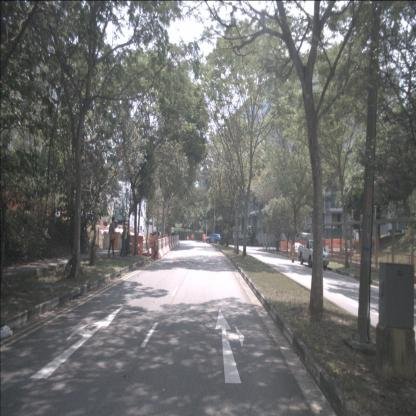human-pedestrian-adult: (107, 216, 116, 258), (119, 219, 128, 258)
movable_object-barrier: (102, 231, 126, 250), (127, 235, 143, 252), (154, 239, 161, 261), (332, 239, 344, 248), (158, 238, 163, 258), (164, 237, 169, 253), (162, 238, 167, 254), (324, 239, 332, 248), (166, 236, 170, 252), (168, 236, 172, 252), (170, 236, 173, 249), (173, 236, 176, 247), (170, 236, 172, 250), (174, 236, 176, 247), (172, 236, 174, 247)
movable_object-trafficcone: (139, 242, 143, 256), (291, 250, 295, 263), (147, 243, 150, 257)
vehicle-bicycle: (64, 251, 84, 280)
vehicle-car: (206, 233, 222, 244)
vehicle-truck: (298, 232, 330, 270), (348, 229, 368, 250)
